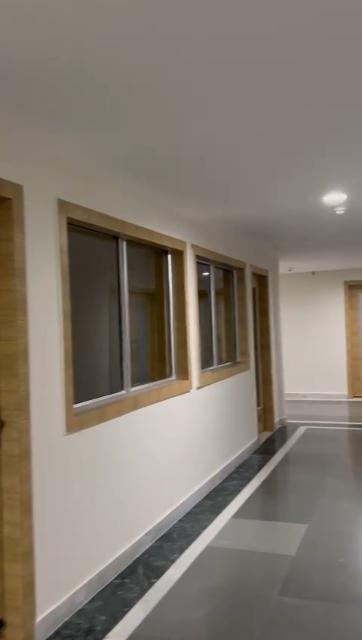door: (0, 189, 32, 639), (252, 266, 274, 434), (344, 284, 362, 400)
floor: (35, 404, 362, 640)
wall: (24, 181, 254, 614), (278, 277, 340, 391)
